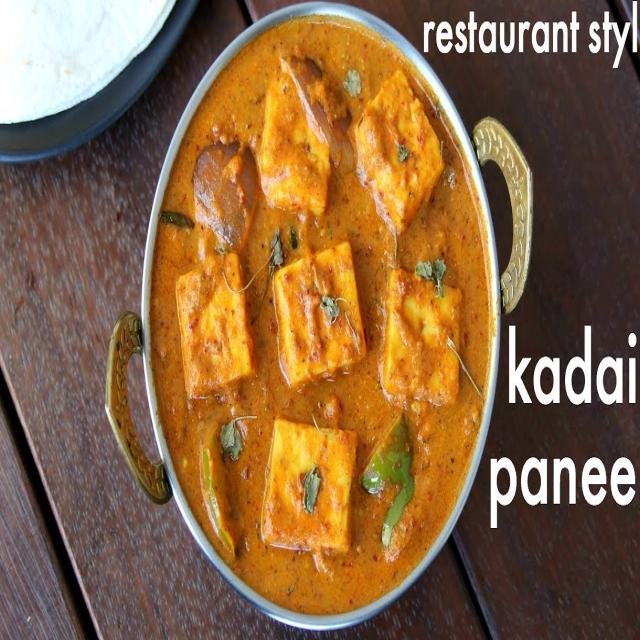Paneer_tikka: (172, 43, 482, 588)
